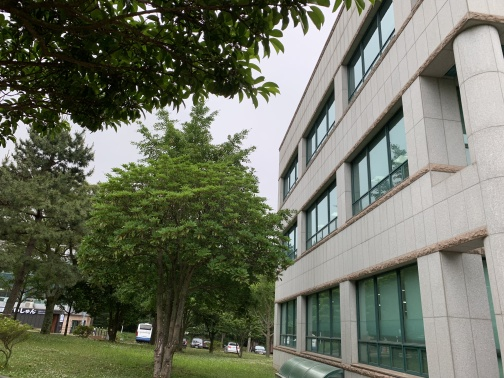Second Library: (274, 12, 498, 378)
